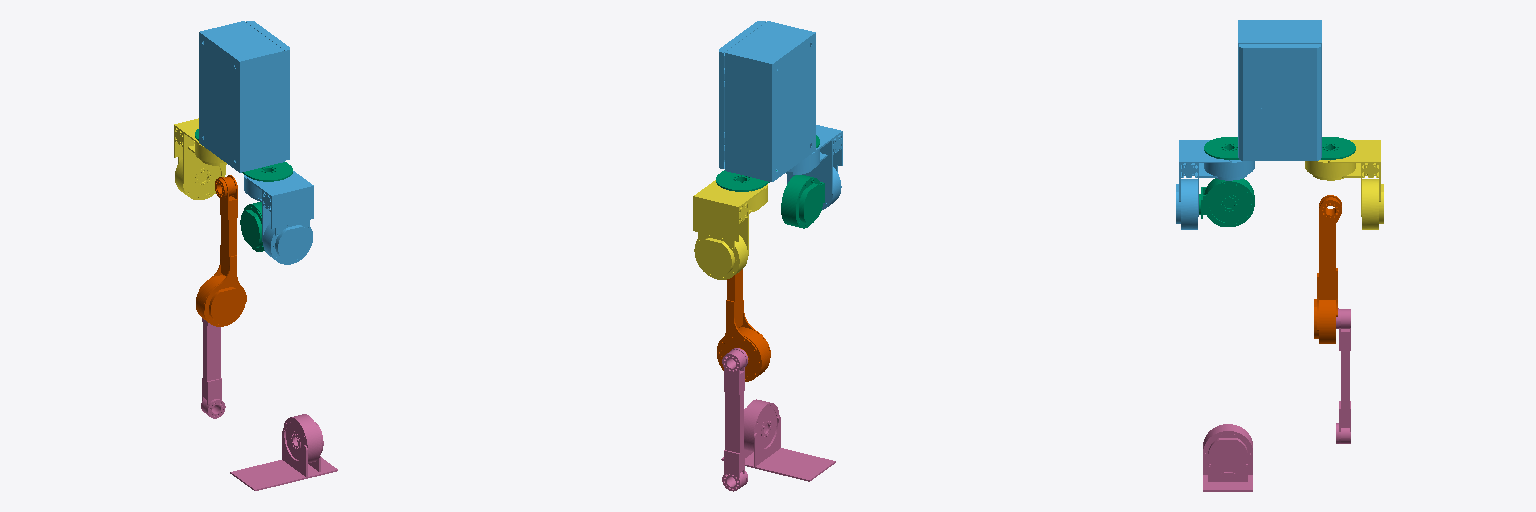
robot.urdf — plymouth_humanoid_skeleton:
<?xml version='1.0' encoding='utf-8'?>
<robot name="plymouth_humanoid_skeleton">

    <!-- This sets the orientation correct for the URDF conversion. Z verticle.  -->
    <link name="world"/>
    <joint name="world_to_root" type="fixed">
    <parent link="world"/>
    <child link="robot_pelvis_link"/>
    <origin xyz="0 0 0" rpy="1.5708 0 1.5708"/>
    </joint>


    <link name="robot_torso_link">
        <inertial>
            <origin xyz="0.040610506256969305 -0.04428824001105586 0.15232735840638484" rpy="0.0 -0.0 0.0" />
            <mass value="3.4766230099551185" />
            <inertia ixx="0.04556755879204122" iyy="0.05012873896013481" izz="0.029046998553490383" ixy="0.0001363433350708794" iyz="-0.00014319360185266472" ixz="-2.17772042035054e-05" />
        </inertial>
        <visual name="robot_torso_link_visual">
            <origin xyz="0.03999999999999842 -0.2065000000000018 -0.8247999999999985" rpy="1.404432126150822e-14 -1.3128387266192404e-14 -1.5707963267948957" />
            <geometry>
                <mesh filename="meshes/robot_torso_link.stl" scale="0.001 0.001 0.001" />
            </geometry>
        </visual>
        <collision name="robot_torso_link_collision">
            <origin xyz="0.03999999999999842 -0.2065000000000018 -0.8247999999999985" rpy="1.404432126150822e-14 -1.3128387266192404e-14 -1.5707963267948957" />
            <geometry>
                <mesh filename="meshes/robot_torso_link.stl" scale="0.001 0.001 0.001" />
            </geometry>
        </collision>
    </link>
    <link name="robot_pelvis_link">
        <inertial>
            <origin xyz="1.907307843025983e-09 0.8221283725272435 -0.16050000000009512" rpy="0.0 0.0 0.0" />
            <mass value="0.4703666239440356" />
            <inertia ixx="0.0004950338258166186" iyy="0.0051455689188816735" izz="0.00465557720347649" ixy="-1.2440762051764413e-16" iyz="-4.9948841394502e-17" ixz="-2.4664787627748077e-16" />
        </inertial>
        <visual name="robot_pelvis_link_visual">
            <origin xyz="0.0 0.0 0.0" rpy="0.0 0.0 0.0" />
            <geometry>
                <mesh filename="meshes/robot_pelvis_link.stl" scale="0.001 0.001 0.001" />
            </geometry>
        </visual>
        <collision name="robot_pelvis_link_collision">
            <origin xyz="0.0 0.0 0.0" rpy="0.0 0.0 0.0" />
            <geometry>
                <mesh filename="meshes/robot_pelvis_link.stl" scale="0.001 0.001 0.001" />
            </geometry>
        </collision>
    </link>
    <link name="robot_l_hip_yaw_link">
        <inertial>
            <origin xyz="0.06170580963744355 1.9456187771993428e-11 0.06827606857409776" rpy="0.0 -0.0 0.0" />
            <mass value="6.333603185323419" />
            <inertia ixx="0.028436782140791816" iyy="0.03981948777445865" izz="0.025134874646244795" ixy="3.3504560609475864e-12" iyz="4.739341596998279e-12" ixz="-0.010596038307326227" />
        </inertial>
        <visual name="robot_l_hip_yaw_link_visual">
            <origin xyz="0.0010000019072628774 -4.121147867408581e-15 0.1212999999999947" rpy="3.4106331814313436e-14 2.914335439640653e-16 -3.1415926535897922" />
            <geometry>
                <mesh filename="meshes/robot_l_hip_yaw_link.stl" scale="0.001 0.001 0.001" />
            </geometry>
        </visual>
        <collision name="robot_l_hip_yaw_link_collision">
            <origin xyz="0.0010000019072628774 -4.121147867408581e-15 0.1212999999999947" rpy="3.4106331814313436e-14 2.914335439640653e-16 -3.1415926535897922" />
            <geometry>
                <mesh filename="meshes/robot_l_hip_yaw_link.stl" scale="0.001 0.001 0.001" />
            </geometry>
        </collision>
    </link>
    <link name="robot_l_hip_pitch_link">
        <inertial>
            <origin xyz="-0.02696184868350109 5.718654837338022e-05 0.07266905837477193" rpy="-3.7659531324685076e-81 -0.0 0.0" />
            <mass value="2.4943200880759124" />
            <inertia ixx="0.005318665627015662" iyy="0.0035221024403746387" izz="0.0031803389744609056" ixy="1.301162759759191e-07" iyz="-3.3025731688284423e-07" ixz="0.00011211843529274009" />
        </inertial>
        <visual name="robot_l_hip_pitch_link_visual">
            <origin xyz="0.000799999999894574 0.2573000000000074 0.07500000166893321" rpy="1.5707963267949085 -1.570796326794896 0" />
            <geometry>
                <mesh filename="meshes/robot_l_hip_pitch_link.stl" scale="0.001 0.001 0.001" />
            </geometry>
        </visual>
        <collision name="robot_l_hip_pitch_link_collision">
            <origin xyz="0.000799999999894574 0.2573000000000074 0.07500000166893321" rpy="1.5707963267949085 -1.570796326794896 0" />
            <geometry>
                <mesh filename="meshes/robot_l_hip_pitch_link.stl" scale="0.001 0.001 0.001" />
            </geometry>
        </collision>
    </link>
    <link name="robot_l_thigh_link">
        <inertial>
            <origin xyz="-0.013245029323109475 -0.004137655727869163 -0.2579314528909593" rpy="0.0 -0.0 0.0" />
            <mass value="3.0917752218546957" />
            <inertia ixx="0.02883218865798365" iyy="0.02680266525524863" izz="0.003607875021008361" ixy="0.00010068883616660142" iyz="0.0021454171666648405" ixz="-0.0010188574668207385" />
        </inertial>
        <visual name="robot_l_thigh_link_visual">
            <origin xyz="-0.006500003619415118 0.000500003046754074 4.497130134950567e-09" rpy="3.141592653589783 -4.579669976578868e-16 3.1415926535897922" />
            <geometry>
                <mesh filename="meshes/robot_l_thigh_link.stl" scale="0.001 0.001 0.001" />
            </geometry>
        </visual>
        <collision name="robot_l_thigh_link_collision">
            <origin xyz="-0.006500003619415118 0.000500003046754074 4.497130134950567e-09" rpy="3.141592653589783 -4.579669976578868e-16 3.1415926535897922" />
            <geometry>
                <mesh filename="meshes/robot_l_thigh_link.stl" scale="0.001 0.001 0.001" />
            </geometry>
        </collision>
    </link>
    <link name="robot_l_shank_link">
        <inertial>
            <origin xyz="-3.0467861478200577e-09 0.14999999550286972 0.02088709684404469" rpy="-3.852921568495442e-61 -0.0 0.0" />
            <mass value="0.8515894596853654" />
            <inertia ixx="0.008817835807395924" iyy="0.00018545866885020384" izz="0.008885909396953537" ixy="-1.7694179454963418e-16" iyz="-5.108341843844014e-17" ixz="-7.241192720668563e-17" />
        </inertial>
        <visual name="robot_l_shank_link_visual">
            <origin xyz="-3.0467515088616894e-09 -0.3000000044971365 -0.021500003857830272" rpy="-1.5707963267949183 -1.5707963267948943 0" />
            <geometry>
                <mesh filename="meshes/robot_l_shank_link.stl" scale="0.001 0.001 0.001" />
            </geometry>
        </visual>
        <collision name="robot_l_shank_link_collision">
            <origin xyz="-3.0467515088616894e-09 -0.3000000044971365 -0.021500003857830272" rpy="-1.5707963267949183 -1.5707963267948943 0" />
            <geometry>
                <mesh filename="meshes/robot_l_shank_link.stl" scale="0.001 0.001 0.001" />
            </geometry>
        </collision>
    </link>
    <link name="robot_l_ankle_link">
        <inertial>
            <origin xyz="0.0025101642045814642 -2.9435578429026778e-06 0.027693209476934388" rpy="0.0 -0.0 0.0" />
            <mass value="2.497542686119488" />
            <inertia ixx="0.003170044378268018" iyy="0.0035459766740820603" izz="0.005361641268614978" ixy="3.5193338254746465e-07" iyz="-5.0583123384351225e-08" ixz="8.715197442183548e-05" />
        </inertial>
        <visual name="robot_l_ankle_link_visual">
            <origin xyz="1.1559999991028747e-05 0.599940920000003 0.018515648092735582" rpy="1.5707963267949097 -1.5707963267948954 0" />
            <geometry>
                <mesh filename="meshes/robot_l_ankle_link.stl" scale="0.001 0.001 0.001" />
            </geometry>
        </visual>
        <collision name="robot_l_ankle_link_collision">
            <origin xyz="1.1559999991028747e-05 0.599940920000003 0.018515648092735582" rpy="1.5707963267949097 -1.5707963267948954 0" />
            <geometry>
                <mesh filename="meshes/robot_l_ankle_link.stl" scale="0.001 0.001 0.001" />
            </geometry>
        </collision>
    </link>
    <link name="robot_l_foot_link">
        <inertial>
            <origin xyz="2.1152900764320747e-09 0.021295071129086525 0.009743852524883821" rpy="0.0 1.2587272089100742e-93 0.0" />
            <mass value="2.78967156731517" />
            <inertia ixx="0.007113124123467467" iyy="0.007089530917847919" izz="0.005986516031780277" ixy="3.032130102553765e-11" iyz="0.001208249550533235" ixz="-3.797835657071147e-11" />
        </inertial>
        <visual name="robot_l_foot_link_visual">
            <origin xyz="-0.009499998092735584 -0.07400000000000896 -0.600000000000003" rpy="1.3142265054000194e-14 -6.383782391594815e-16 -3.1415926535897922" />
            <geometry>
                <mesh filename="meshes/robot_l_foot_link.stl" scale="0.001 0.001 0.001" />
            </geometry>
        </visual>
        <collision name="robot_l_foot_link_collision">
            <origin xyz="-0.009499998092735584 -0.07400000000000896 -0.600000000000003" rpy="1.3142265054000194e-14 -6.383782391594815e-16 -3.1415926535897922" />
            <geometry>
                <mesh filename="meshes/robot_l_foot_link.stl" scale="0.001 0.001 0.001" />
            </geometry>
        </collision>
    </link>
    <link name="robot_r_hip_yaw_link">
        <inertial>
            <origin xyz="-0.06170580582138252 -1.9462511602341692e-11 -0.06827606857536807" rpy="0.0 -0.0 0.0" />
            <mass value="6.33360318547509" />
            <inertia ixx="0.02843678214118306" iyy="0.03981948777555511" izz="0.025134874646876512" ixy="3.3527615383185486e-12" iyz="4.741342443921934e-12" ixz="-0.010596038306837618" />
        </inertial>
        <visual name="robot_r_hip_yaw_link_visual">
            <origin xyz="-0.0009999980926557051 4.0856207306205765e-15 -0.12129999999999527" rpy="-3.3939798360619713e-14 2.9143354396404137e-16 -1.1379786002408091e-15" />
            <geometry>
                <mesh filename="meshes/robot_r_hip_yaw_link.stl" scale="0.001 0.001 0.001" />
            </geometry>
        </visual>
        <collision name="robot_r_hip_yaw_link_collision">
            <origin xyz="-0.0009999980926557051 4.0856207306205765e-15 -0.12129999999999527" rpy="-3.3939798360619713e-14 2.9143354396404137e-16 -1.1379786002408091e-15" />
            <geometry>
                <mesh filename="meshes/robot_r_hip_yaw_link.stl" scale="0.001 0.001 0.001" />
            </geometry>
        </collision>
    </link>
    <link name="robot_r_hip_pitch_link">
        <inertial>
            <origin xyz="-0.026950752726990004 -4.887744043458043e-07 0.07268407470290571" rpy="0.0 -0.0 0.0" />
            <mass value="2.4943200880759147" />
            <inertia ixx="0.005318838704479134" iyy="0.0035222338455168645" izz="0.003180296615424849" ixy="-2.273747279346594e-08" iyz="2.823485417691174e-09" ixz="0.00011208276943740214" />
        </inertial>
        <visual name="robot_r_hip_pitch_link_visual">
            <origin xyz="0.0007999999998950713 -0.25730000000000786 0.075000005483542" rpy="1.5707963267948843 -1.5707963267948957 0" />
            <geometry>
                <mesh filename="meshes/robot_r_hip_pitch_link.stl" scale="0.001 0.001 0.001" />
            </geometry>
        </visual>
        <collision name="robot_r_hip_pitch_link_collision">
            <origin xyz="0.0007999999998950713 -0.25730000000000786 0.075000005483542" rpy="1.5707963267948843 -1.5707963267948957 0" />
            <geometry>
                <mesh filename="meshes/robot_r_hip_pitch_link.stl" scale="0.001 0.001 0.001" />
            </geometry>
        </collision>
    </link>
    <link name="robot_r_thigh_link">
        <inertial>
            <origin xyz="0.013245027463409737 0.004137658774629856 0.2579314573880829" rpy="0.0 -0.0 0.0" />
            <mass value="3.0917752218546957" />
            <inertia ixx="0.02883218865798376" iyy="0.026802665253455676" izz="0.003607875019214846" ixy="0.00010068883404953363" iyz="0.0021454171666639033" ixz="-0.0010188574476189692" />
        </inertial>
        <visual name="robot_r_thigh_link_visual">
            <origin xyz="0.006500001907344953 -0.0005000000000066862 -6.1106675275368615e-15" rpy="3.1415926535897474 2.0816681711726145e-16 9.020562075079486e-16" />
            <geometry>
                <mesh filename="meshes/robot_r_thigh_link.stl" scale="0.001 0.001 0.001" />
            </geometry>
        </visual>
        <collision name="robot_r_thigh_link_collision">
            <origin xyz="0.006500001907344953 -0.0005000000000066862 -6.1106675275368615e-15" rpy="3.1415926535897474 2.0816681711726145e-16 9.020562075079486e-16" />
            <geometry>
                <mesh filename="meshes/robot_r_thigh_link.stl" scale="0.001 0.001 0.001" />
            </geometry>
        </collision>
    </link>
    <link name="robot_r_shank_link">
        <inertial>
            <origin xyz="-4.405364961712621e-14 -0.14999999999999544 0.02088709874680781" rpy="-4.922502319359728e-62 -0.0 0.0" />
            <mass value="0.8515894596853654" />
            <inertia ixx="0.008817835807396299" iyy="0.00018545866885018997" izz="0.008885909396952732" ixy="1.1796119636642298e-16" iyz="-8.32422847682077e-17" ixz="-8.92696737494169e-17" />
        </inertial>
        <visual name="robot_r_shank_link_visual">
            <origin xyz="-6.0751403907488565e-15 0.30000000000001104 -0.021500001955065694" rpy="-1.570796326794883 -1.5707963267948897 0" />
            <geometry>
                <mesh filename="meshes/robot_r_shank_link.stl" scale="0.001 0.001 0.001" />
            </geometry>
        </visual>
        <collision name="robot_r_shank_link_collision">
            <origin xyz="-6.0751403907488565e-15 0.30000000000001104 -0.021500001955065694" rpy="-1.570796326794883 -1.5707963267948897 0" />
            <geometry>
                <mesh filename="meshes/robot_r_shank_link.stl" scale="0.001 0.001 0.001" />
            </geometry>
        </collision>
    </link>
    <link name="robot_r_ankle_link">
        <inertial>
            <origin xyz="0.0025096858438951133 4.881742454987403e-07 0.02773418951986404" rpy="-6.299414961705125e-96 -0.0 0.0" />
            <mass value="2.4975426861194876" />
            <inertia ixx="0.0031677074193712795" iyy="0.0035435011232669844" izz="0.005361501992920334" ixy="3.059899889024109e-09" iyz="-2.2390836785374235e-08" ixz="8.122457175510502e-05" />
        </inertial>
        <visual name="robot_r_ankle_link_visual">
            <origin xyz="-6.643574579356937e-15 -0.6000000000000062 0.01950000190734496" rpy="1.5707963267948835 -1.5707963267948952 0" />
            <geometry>
                <mesh filename="meshes/robot_r_ankle_link.stl" scale="0.001 0.001 0.001" />
            </geometry>
        </visual>
        <collision name="robot_r_ankle_link_collision">
            <origin xyz="-6.643574579356937e-15 -0.6000000000000062 0.01950000190734496" rpy="1.5707963267948835 -1.5707963267948952 0" />
            <geometry>
                <mesh filename="meshes/robot_r_ankle_link.stl" scale="0.001 0.001 0.001" />
            </geometry>
        </collision>
    </link>
    <link name="robot_r_foot_link">
        <inertial>
            <origin xyz="1.6993186235936263e-09 -0.02129507460669811 -0.009743852524875" rpy="0.0 -0.0 0.0" />
            <mass value="2.7896715673151693" />
            <inertia ixx="0.007113124257631137" iyy="0.007089530917849758" izz="0.005986516165940273" ixy="3.032198797603414e-11" iyz="0.0012082496450576182" ixz="-3.797779352347724e-11" />
        </inertial>
        <visual name="robot_r_foot_link_visual">
            <origin xyz="0.00950000190734107 0.07400000000000669 0.6000000000000062" rpy="-1.3163324039812401e-14 -2.0816681711723186e-16 -9.020562075079555e-16" />
            <geometry>
                <mesh filename="meshes/robot_r_foot_link.stl" scale="0.001 0.001 0.001" />
            </geometry>
        </visual>
        <collision name="robot_r_foot_link_collision">
            <origin xyz="0.00950000190734107 0.07400000000000669 0.6000000000000062" rpy="-1.3163324039812401e-14 -2.0816681711723186e-16 -9.020562075079555e-16" />
            <geometry>
                <mesh filename="meshes/robot_r_foot_link.stl" scale="0.001 0.001 0.001" />
            </geometry>
        </collision>
    </link>
    <joint name="robot_pelvis_link_l_yaw_joint" type="continuous">
        <origin xyz="0.12000000000000094 0.8127999999999959 -0.1604999999999903" rpy="1.5707963267949308 2.77555756156387e-17 5.273559366969195e-16" />
        <parent link="robot_pelvis_link" />
        <child link="robot_l_hip_yaw_link" />
        <axis xyz="-4.2755644765189156e-32 2.1213866940853923e-14 1.0" />
    </joint>
    <joint name="robot_l_hip_yaw_link_l_pitch_joint" type="continuous">
        <origin xyz="0.07499999999999987 2.877698079828406e-15 0.13629999999999995" rpy="-1.5707963267948966 2.1213866940853926e-14 1.5707963267948966" />
        <parent link="robot_l_hip_yaw_link" />
        <child link="robot_l_hip_pitch_link" />
        <axis xyz="-2.2725973344141428e-32 2.775557561565327e-17 -1.0" />
    </joint>
    <joint name="robot_l_hip_pitch_link_l_roll_joint" type="continuous">
        <origin xyz="0.0004884400000000255 5.907999999990921e-05 0.07498434999999998" rpy="-1.5707963267949294 1.5707963267948966 0" />
        <parent link="robot_l_hip_pitch_link" />
        <child link="robot_l_thigh_link" />
        <axis xyz="-3.8518598882279653e-34 1.0 3.270422467429247e-14" />
    </joint>
    <joint name="robot_l_thigh_link_l_knee_joint" type="continuous">
        <origin xyz="0.0129999999999999 0.0005000000000097771 -0.3" rpy="-1.5707963267948981 3.270422467429247e-14 -1.5707963267948966" />
        <parent link="robot_l_thigh_link" />
        <child link="robot_l_shank_link" />
        <axis xyz="-1.2210395847338845e-31 1.4849232954356037e-15 -1.0" />
    </joint>
    <joint name="robot_l_shank_link_l_ankle_joint" type="continuous">
        <origin xyz="0.0 0.3 4.440892098500626e-16" rpy="-3.141592653589792 2.241782455256438e-31 3.1554436208840472e-30" />
        <parent link="robot_l_shank_link" />
        <child link="robot_l_ankle_link" />
        <axis xyz="1.0207428705226006e-31 -0.0 1.0" />
    </joint>
    <joint name="robot_l_ankle_link_l_foot_joint" type="continuous">
        <origin xyz="0.07401155999999999 -5.9079999999998025e-05 0.009015649999999998" rpy="1.5707963267948966 1.5707963267948966 0" />
        <parent link="robot_l_ankle_link" />
        <child link="robot_l_foot_link" />
        <axis xyz="1.2094840050743994e-31 1.0 0.0" />
    </joint>
    <joint name="robot_pelvis_link_r_yaw_joint" type="continuous">
        <origin xyz="-0.11999999999999826 0.8127999999999959 -0.1604999999999903" rpy="-1.5707963267948628 2.77555756156387e-17 5.273559366969195e-16" />
        <parent link="robot_pelvis_link" />
        <child link="robot_r_hip_yaw_link" />
        <axis xyz="4.2755644765189156e-32 2.1047333487160162e-14 1.0" />
    </joint>
    <joint name="robot_r_hip_yaw_link_r_pitch_joint" type="continuous">
        <origin xyz="-0.07499999999999991 -2.877698079828406e-15 -0.13629999999999995" rpy="-1.5707963267948966 -2.1047333487160162e-14 -1.5707963267948966" />
        <parent link="robot_r_hip_yaw_link" />
        <child link="robot_r_hip_pitch_link" />
        <axis xyz="-8.281498761229452e-33 0.0 1.0" />
    </joint>
    <joint name="robot_r_hip_pitch_link_r_roll_joint" type="continuous">
        <origin xyz="0.0005000000000000072 0.0 0.07500000000000002" rpy="-1.5707963267948637 -1.5707963267948966 0" />
        <parent link="robot_r_hip_pitch_link" />
        <child link="robot_r_thigh_link" />
        <axis xyz="-2.1955601366083152e-32 1.0 -3.282668935420722e-14" />
    </joint>
    <joint name="robot_r_thigh_link_r_knee_joint" type="continuous">
        <origin xyz="-0.013000000000000185 -0.0004999999999901661 0.3000000000000001" rpy="-1.570796326794898 3.282668935420722e-14 1.5707963267948966" />
        <parent link="robot_r_thigh_link" />
        <child link="robot_r_shank_link" />
        <axis xyz="-3.120006509880417e-32 -1.193489751472503e-15 1.0" />
    </joint>
    <joint name="robot_r_shank_link_r_ankle_joint" type="continuous">
        <origin xyz="0.0 -0.3 -3.552713678800501e-16" rpy="-3.1415926535897922 -1.0400021699518434e-31 0.0" />
        <parent link="robot_r_shank_link" />
        <child link="robot_r_ankle_link" />
        <axis xyz="7.280015189638016e-32 1.5879329631222806e-30 -1.0" />
    </joint>
    <joint name="robot_r_ankle_link_r_foot_joint" type="continuous">
        <origin xyz="0.07400000000000002 0.0 0.01" rpy="1.5707963267948966 -1.5707963267948961 0" />
        <parent link="robot_r_ankle_link" />
        <child link="robot_r_foot_link" />
        <axis xyz="-2.5037089276361443e-33 1.0 -2.105898581219543e-17" />
    </joint>
    <joint name="robot_pelvis_link_torso_joint" type="fixed">
        <origin xyz="-0.03999999999999858 0.8247999999999963 -0.2064999999999898" rpy="-1.570796326794884 2.77555756156387e-17 5.273559366969195e-16" />
        <parent link="robot_pelvis_link" />
        <child link="robot_torso_link" />
    </joint>
</robot>

--- What the picture shows (computed from the rendered views, not written in the file) ---
The picture shows the robot from 3 angles, left to right: view 1: azimuth 30°, elevation 25°; view 2: azimuth 150°, elevation 25°; view 3: azimuth 270°, elevation 25°; orthographic projection.
Robot: plymouth_humanoid_skeleton — 15 links, 14 joints (12 continuous, 2 fixed); root link world; default pose: all joints at 0.
Links seen in each view (by area): view 1: robot_torso_link, robot_r_hip_yaw_link, robot_l_thigh_link, robot_r_foot_link, robot_l_hip_yaw_link, robot_l_shank_link, robot_r_hip_pitch_link, robot_pelvis_link; view 2: robot_torso_link, robot_l_hip_yaw_link, robot_r_foot_link, robot_l_shank_link, robot_l_thigh_link, robot_r_hip_yaw_link, robot_r_hip_pitch_link, robot_pelvis_link; view 3: robot_torso_link, robot_r_foot_link, robot_l_hip_yaw_link, robot_r_hip_yaw_link, robot_l_thigh_link, robot_r_hip_pitch_link, robot_l_shank_link, robot_pelvis_link.
Link boxes in pixels (left/top/right/bottom): robot_torso_link: left=199, top=21, right=289, bottom=172; robot_r_hip_yaw_link: left=244, top=171, right=313, bottom=264; robot_l_thigh_link: left=196, top=175, right=246, bottom=326; robot_r_foot_link: left=230, top=414, right=337, bottom=490; robot_l_hip_yaw_link: left=174, top=118, right=226, bottom=199; robot_l_shank_link: left=201, top=318, right=225, bottom=418; robot_r_hip_pitch_link: left=240, top=202, right=264, bottom=251; robot_pelvis_link: left=195, top=129, right=292, bottom=181; robot_torso_link: left=719, top=21, right=815, bottom=181; robot_l_hip_yaw_link: left=693, top=180, right=767, bottom=279; robot_r_foot_link: left=721, top=399, right=835, bottom=481; robot_l_shank_link: left=722, top=348, right=747, bottom=491; robot_l_thigh_link: left=717, top=269, right=770, bottom=381; robot_r_hip_yaw_link: left=786, top=125, right=842, bottom=209; robot_r_hip_pitch_link: left=781, top=175, right=824, bottom=228; robot_pelvis_link: left=716, top=135, right=819, bottom=191; robot_torso_link: left=1238, top=20, right=1321, bottom=160; robot_r_foot_link: left=1203, top=424, right=1252, bottom=491; robot_l_hip_yaw_link: left=1305, top=140, right=1383, bottom=229; robot_r_hip_yaw_link: left=1176, top=140, right=1254, bottom=229; robot_l_thigh_link: left=1314, top=195, right=1341, bottom=343; robot_r_hip_pitch_link: left=1199, top=178, right=1254, bottom=226; robot_l_shank_link: left=1336, top=308, right=1350, bottom=443; robot_pelvis_link: left=1204, top=137, right=1355, bottom=159.
Bounding box of the posed robot: 0.235 × 0.4954 × 1.12 m (x, y, z).
Meshes: 14 distinct files referenced, 14 mesh visuals loaded (14 binary STL).
